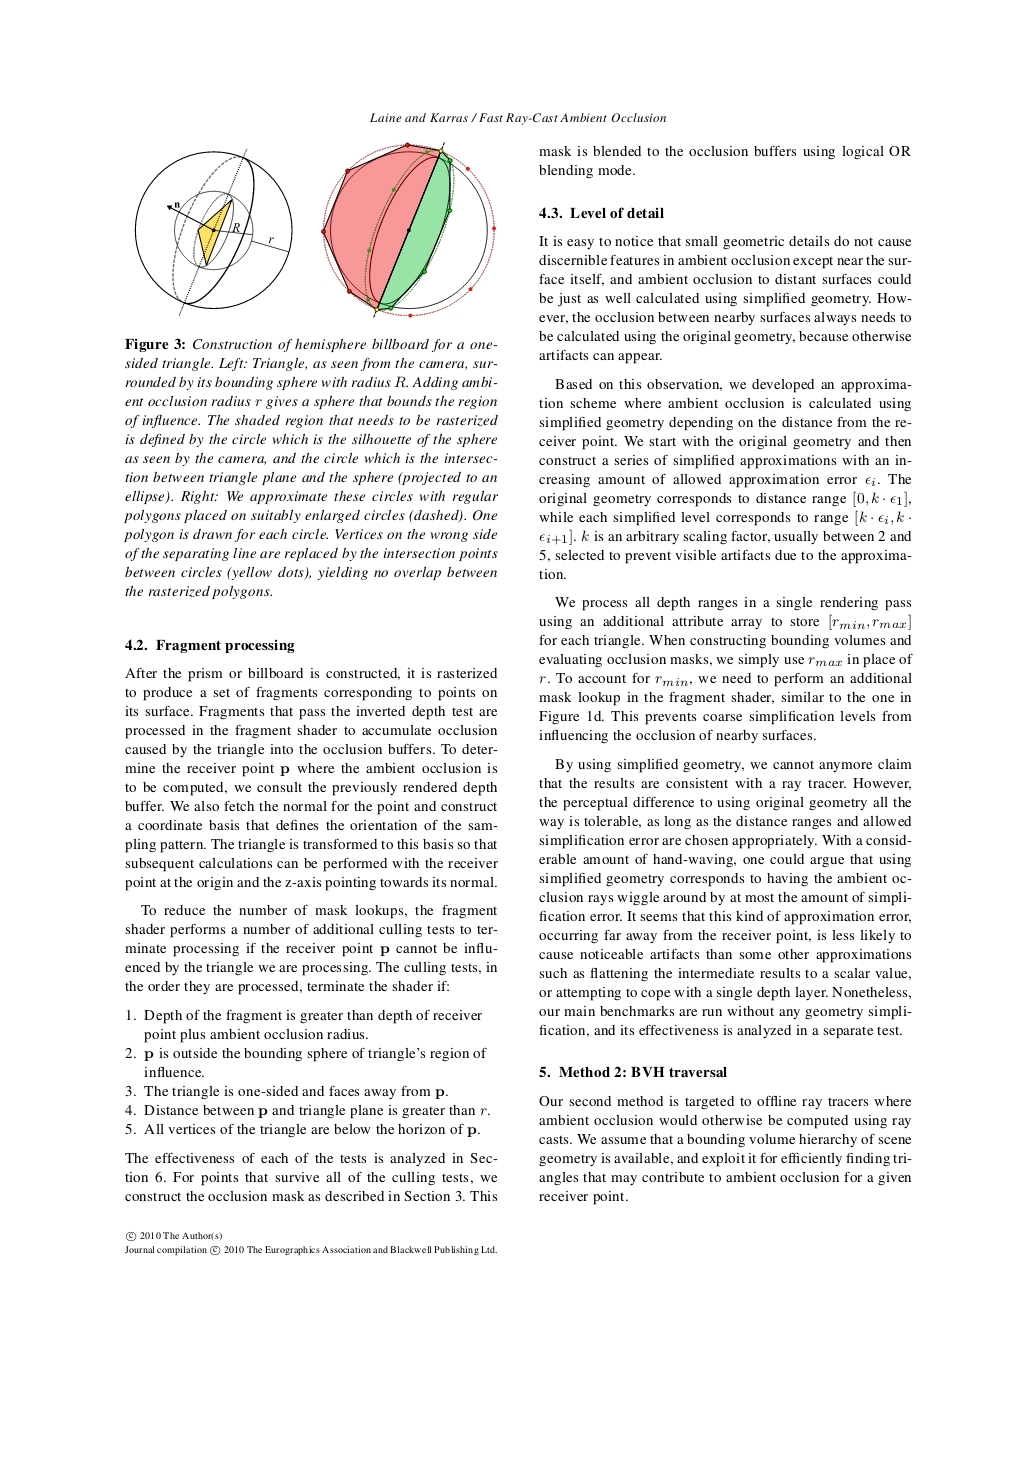figure: (321, 142, 495, 317), (134, 148, 292, 315)
